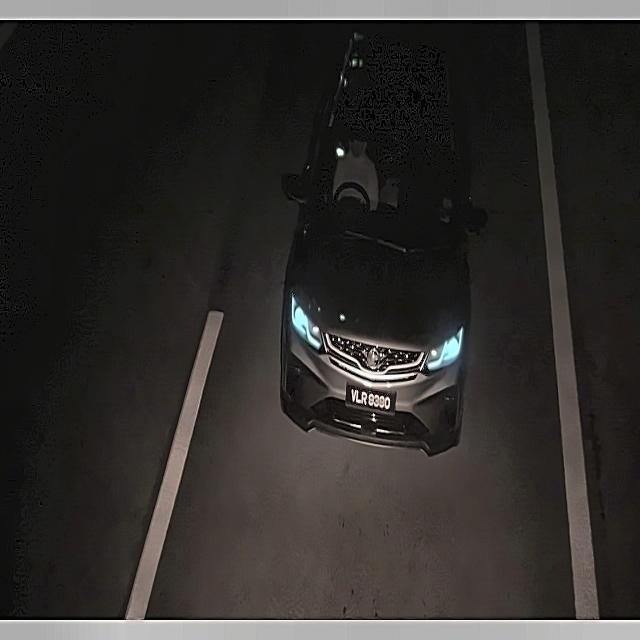car: (347, 375, 396, 422)
